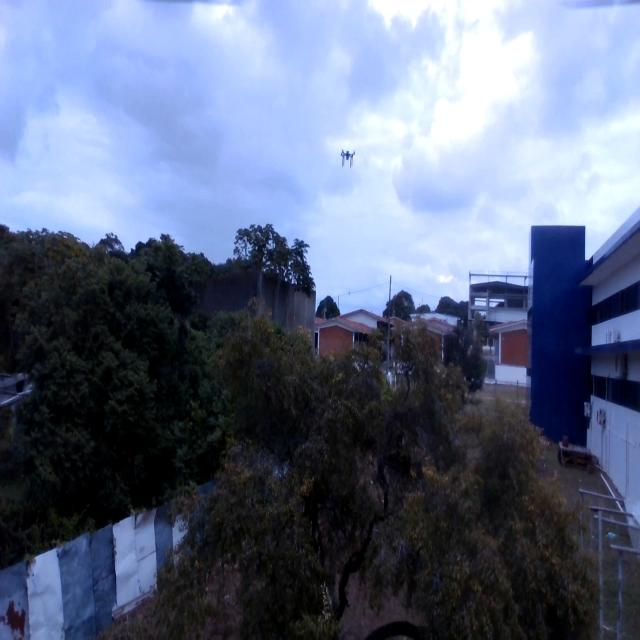-uav-: (335, 142, 357, 178)
